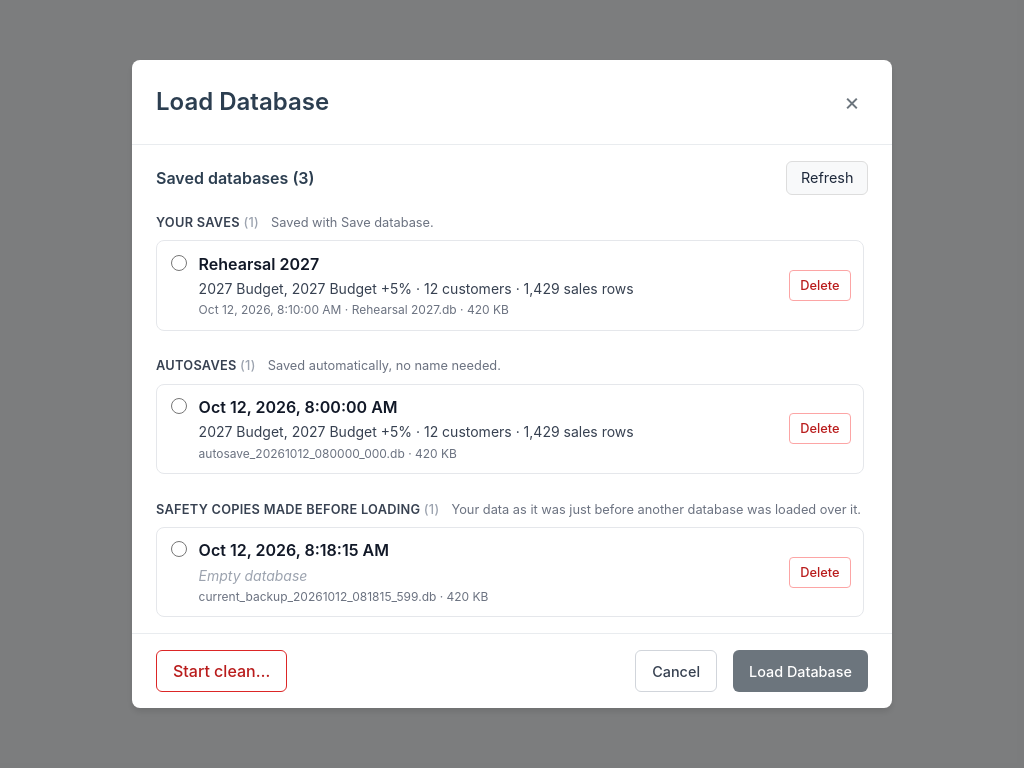
Test case: DatabaseLoadModal › groups snapshots by kind and shows what each one holds
Expected: the heading "Your saves (1)" is shown, [156,213,259,232]
Expected: the heading "Autosaves (1)" is shown, [156,356,256,376]
Click the text "Rehearsal 2027" at (259, 264), box [199,254,319,274]
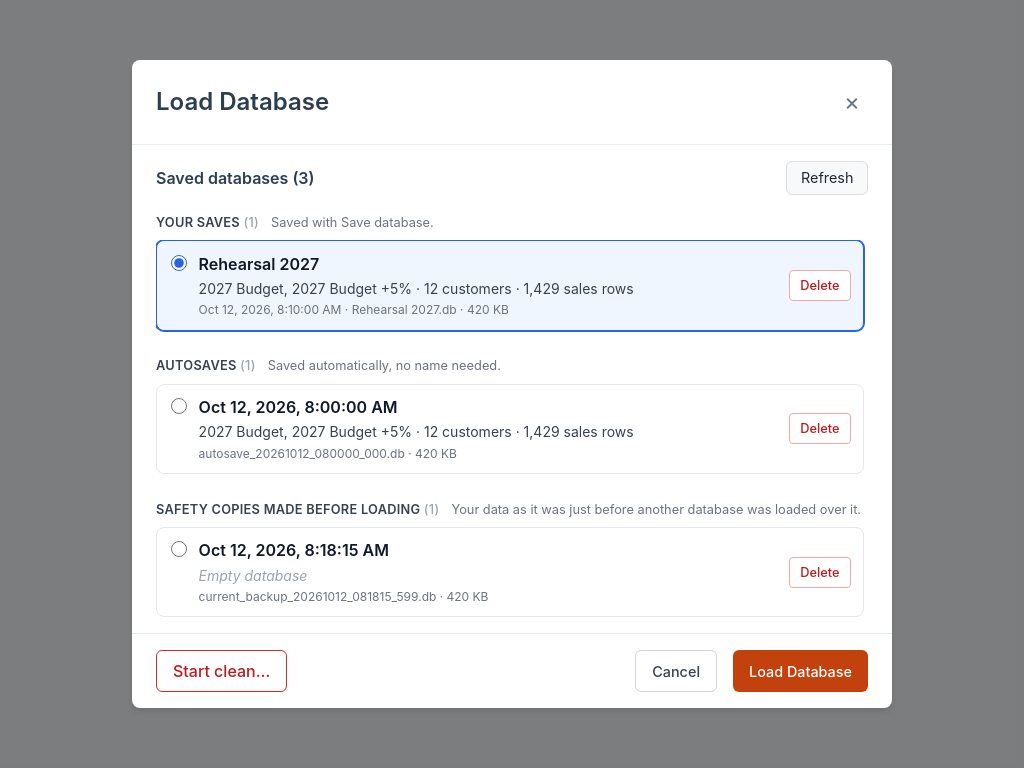
Expected: the button "Load Database" is enabled, [733,650,868,692]
